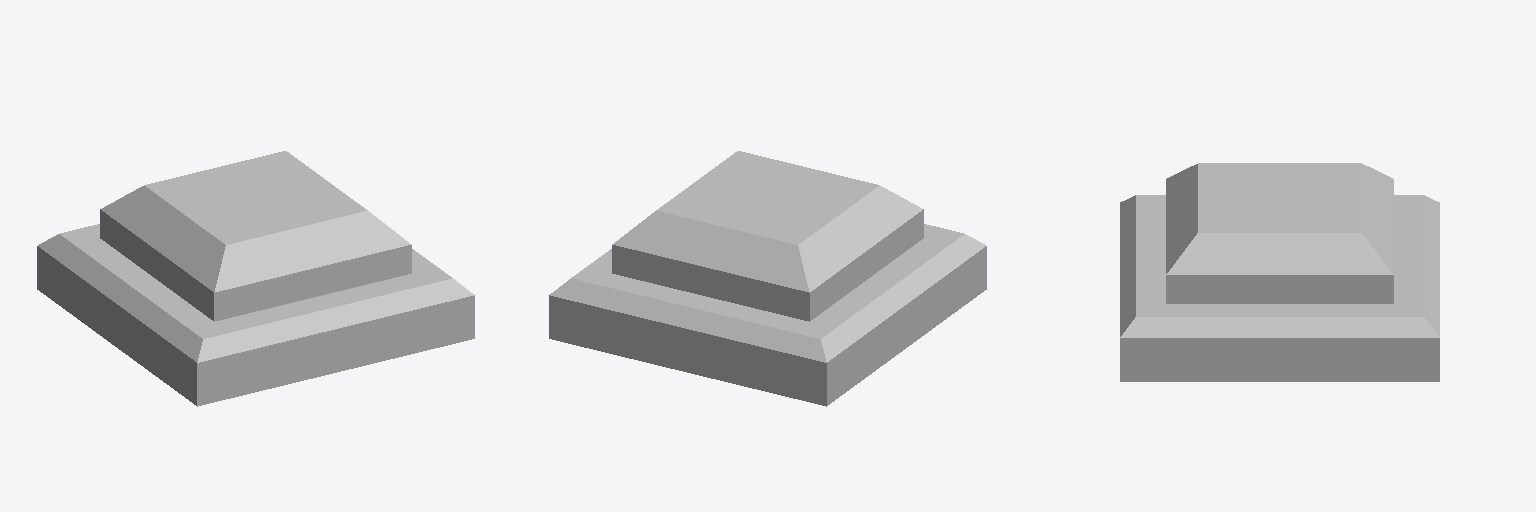
The model's file is CenterPiecePodium.obj.
3 views of the same model, side by side, from view 1: azimuth 30°, elevation 25°; view 2: azimuth 150°, elevation 25°; view 3: azimuth 270°, elevation 25° (orthographic).
Parts seen in each view (by area): view 1: Cube; view 2: Cube; view 3: Cube.
Boxes of the visible parts, x1,y1,x2,y2 form: Cube: [37, 151, 474, 406]; Cube: [549, 151, 986, 406]; Cube: [1120, 163, 1439, 381].
Bounding box in the file's own units: 10 × 4 × 10.